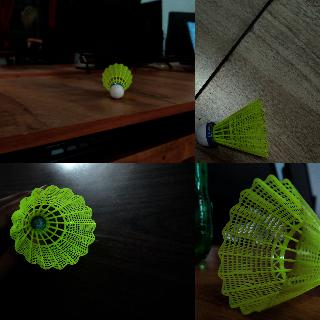shuttlecock: (217, 172, 319, 314), (9, 185, 95, 269), (195, 98, 269, 160), (101, 62, 132, 98)
